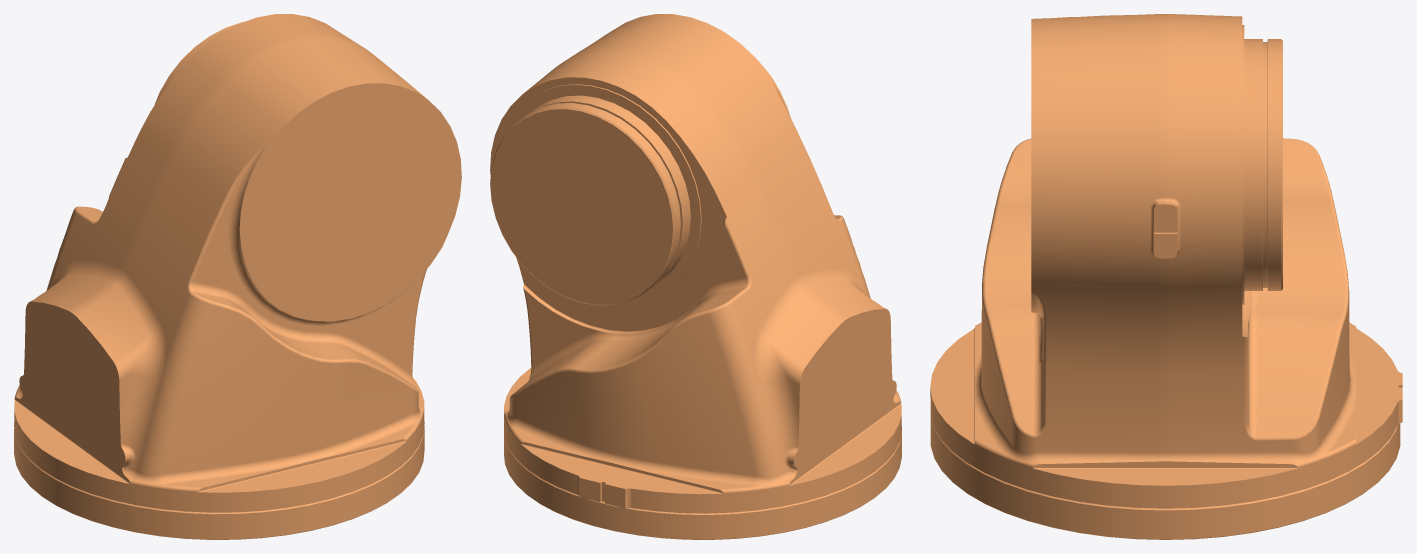
The picture shows the model from 3 angles, left to right: view 1: azimuth 30°, elevation 25°; view 2: azimuth 150°, elevation 25°; view 3: azimuth 270°, elevation 25°; orthographic projection. The views are drawn at different scales.
Visible parts, largest first — view 1: R7-900_JOINT1; view 2: R7-900_JOINT1; view 3: R7-900_JOINT1.
Boxes of the visible parts, x1,y1,x2,y2 form: R7-900_JOINT1: [14, 14, 461, 539]; R7-900_JOINT1: [490, 14, 901, 539]; R7-900_JOINT1: [930, 14, 1402, 539].
Bounding box in the file's own units: 0.252 × 0.243 × 0.2578.
